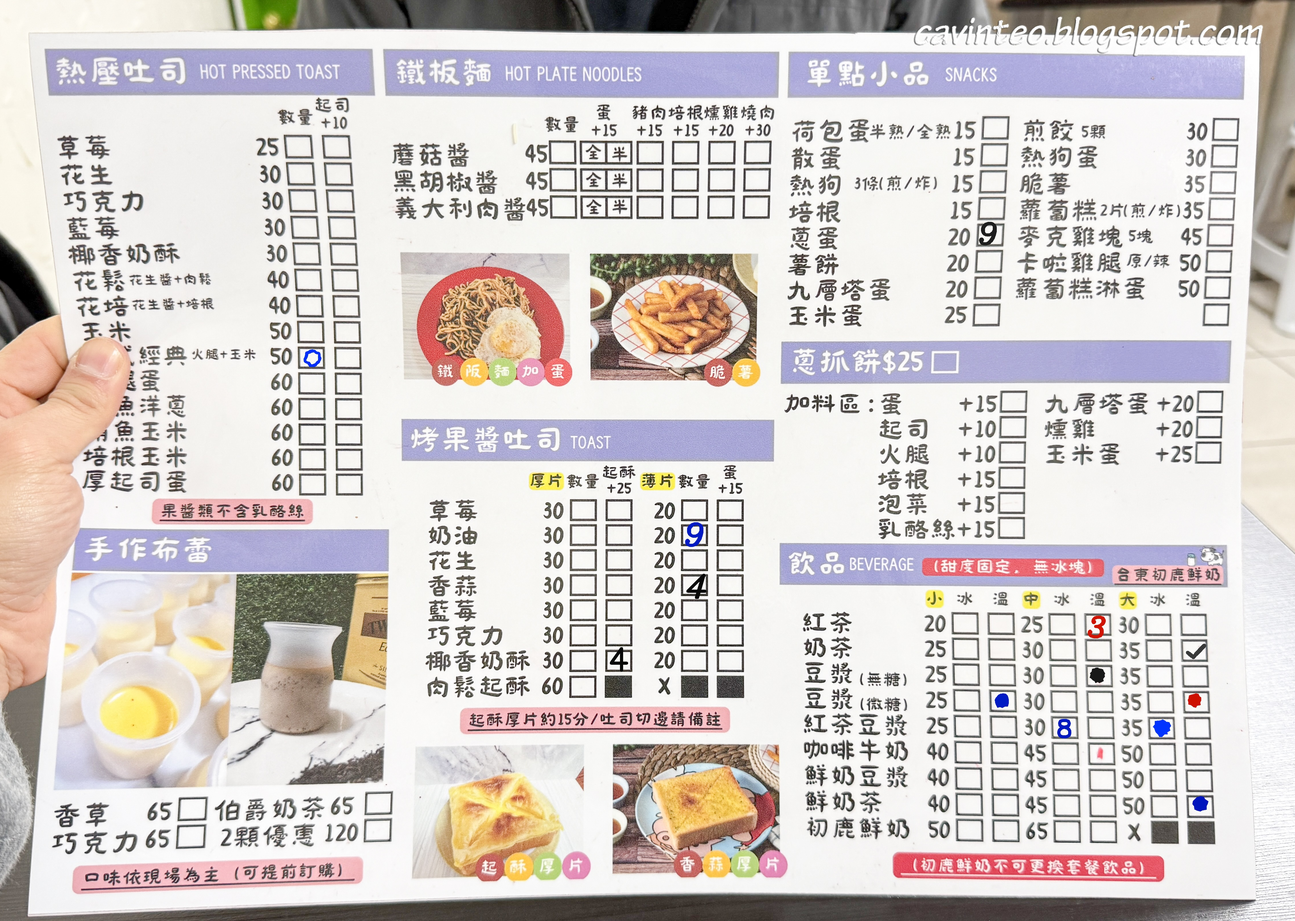marked_circle: (1187, 795, 1212, 814), (1150, 721, 1175, 739), (1184, 692, 1209, 710), (991, 691, 1016, 709), (1087, 667, 1112, 685)
marked_hollow: (298, 348, 323, 366)
marked_number_3: (1085, 618, 1110, 636)
marked_number_4: (607, 650, 632, 668), (685, 578, 710, 596)
marked_number_8: (1053, 720, 1078, 738)
marked_number_9: (978, 224, 1003, 242), (683, 525, 708, 543)
marked_tick: (1183, 642, 1208, 660)
